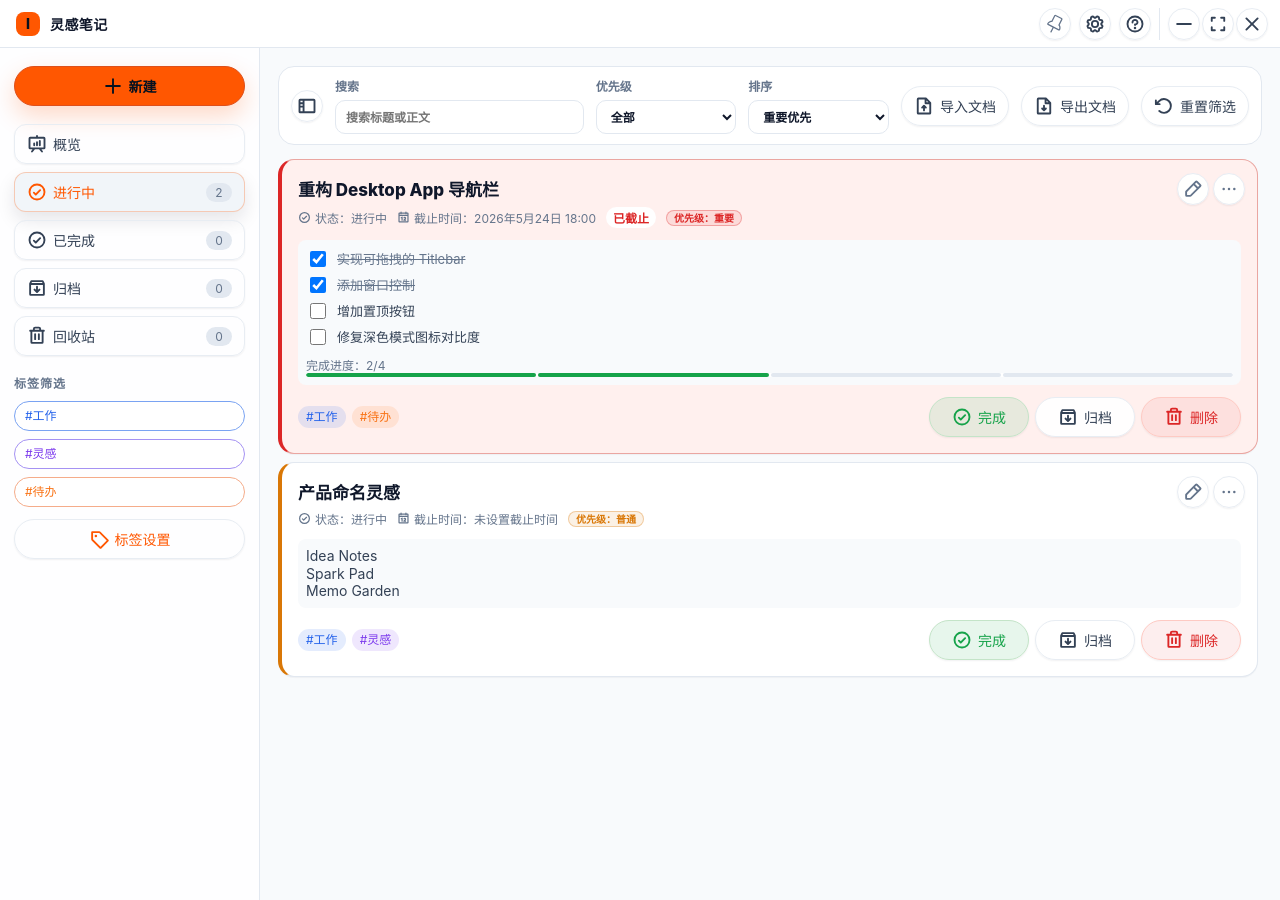
App editor create › Ctrl+N 打开新建编辑器，Ctrl+S 保存编辑器草稿
The image size is (1280, 900).
Expected: the button "重构 Desktop App 导航栏" is shown, [298,176,1181,201]
Type keys "{Control>}n{/Control}"
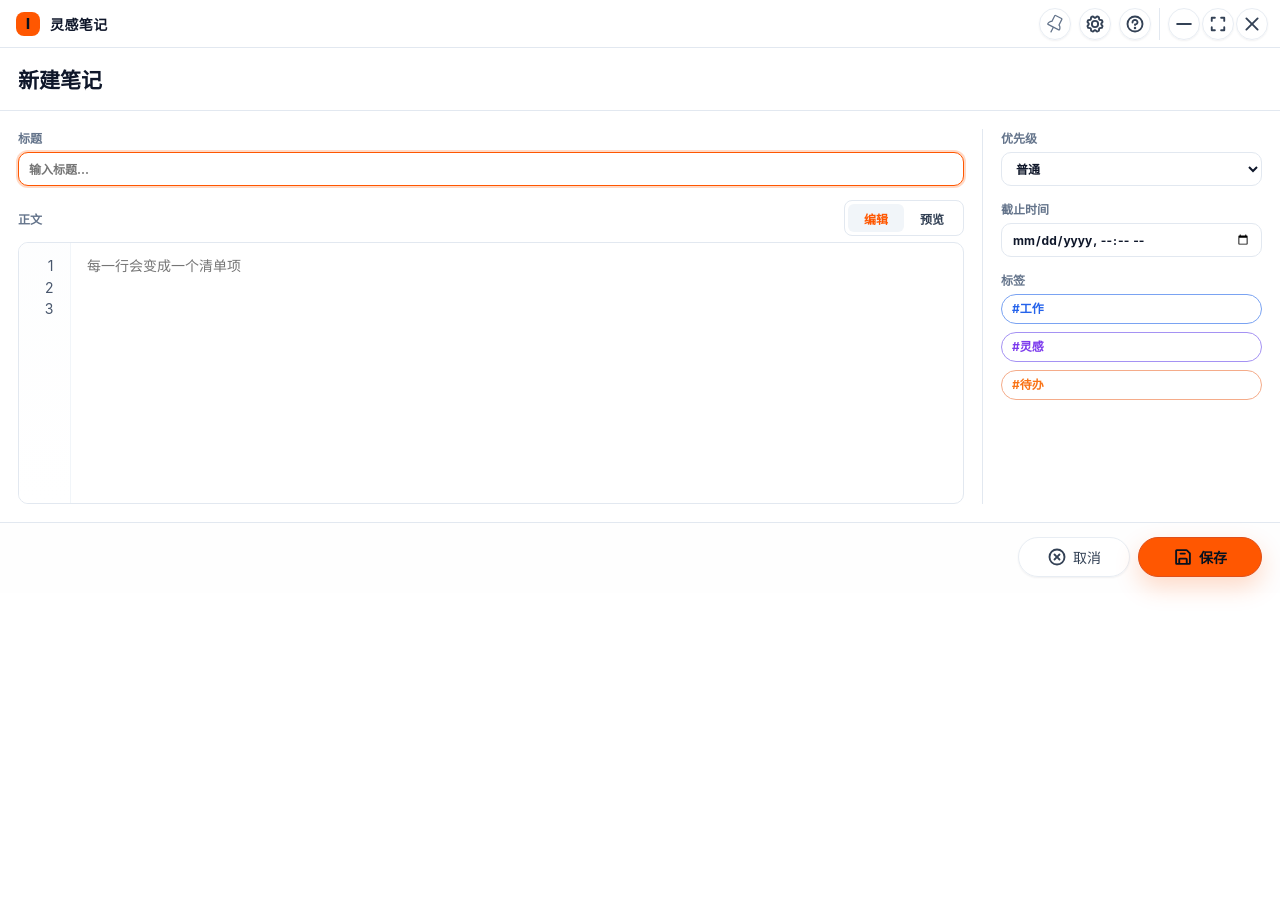
Now the dialog "新建笔记" is shown
Type "快捷键新建" into the field labelled "标题" at (491, 169), box [18,152,964,186]
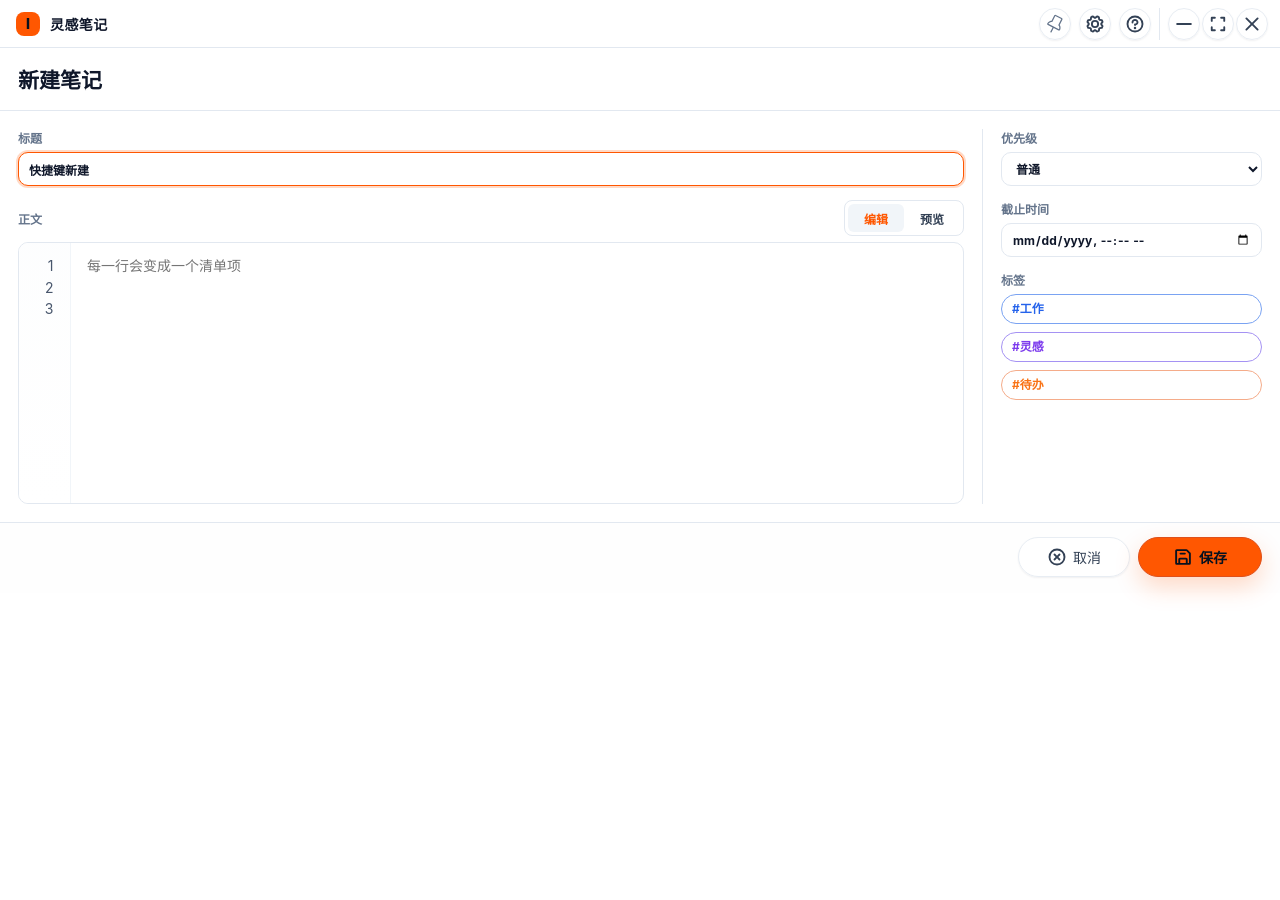
Type "键盘保存" into the text box named "正文" at (525, 373), box [87,243,963,503]
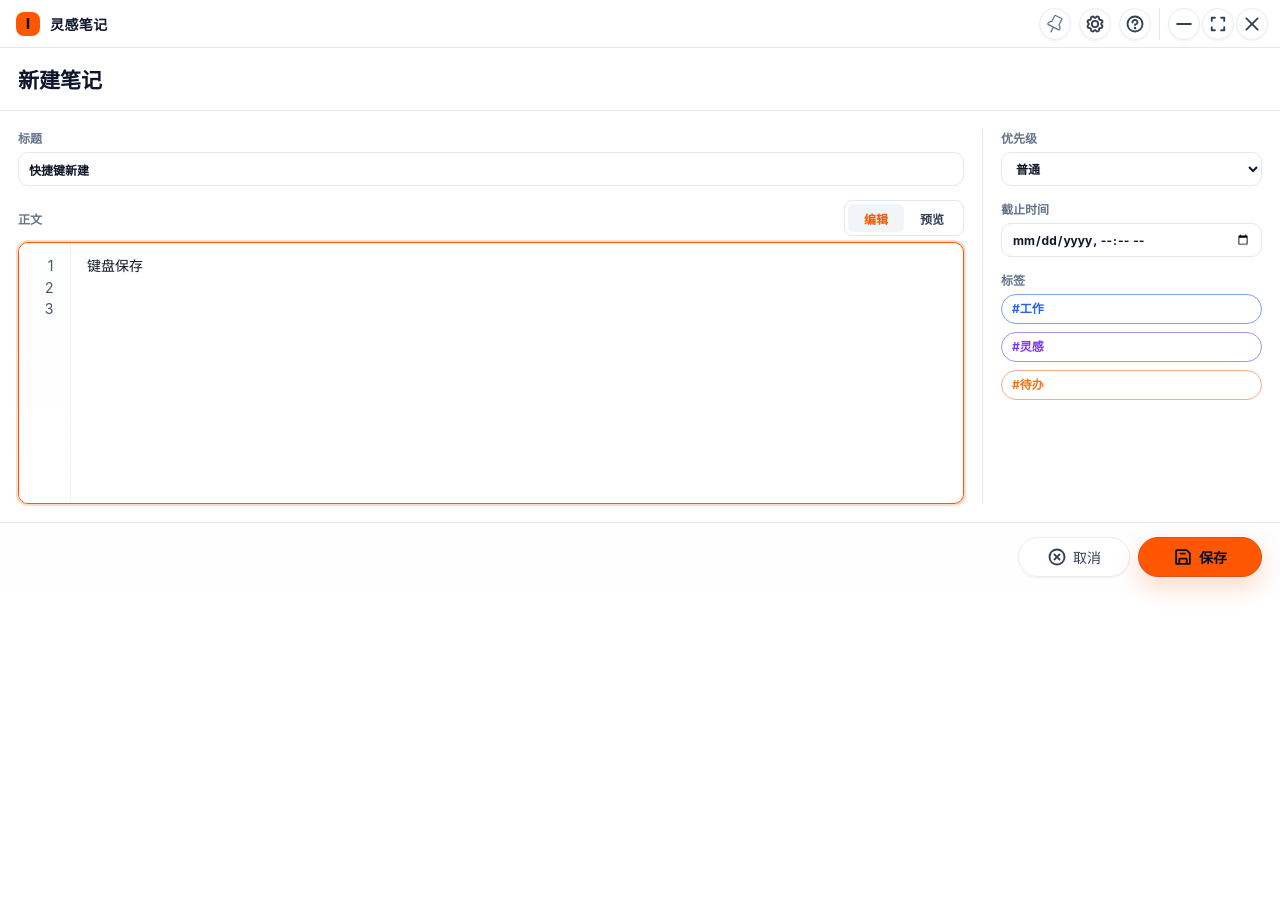
Type keys "{Control>}s{/Control}"
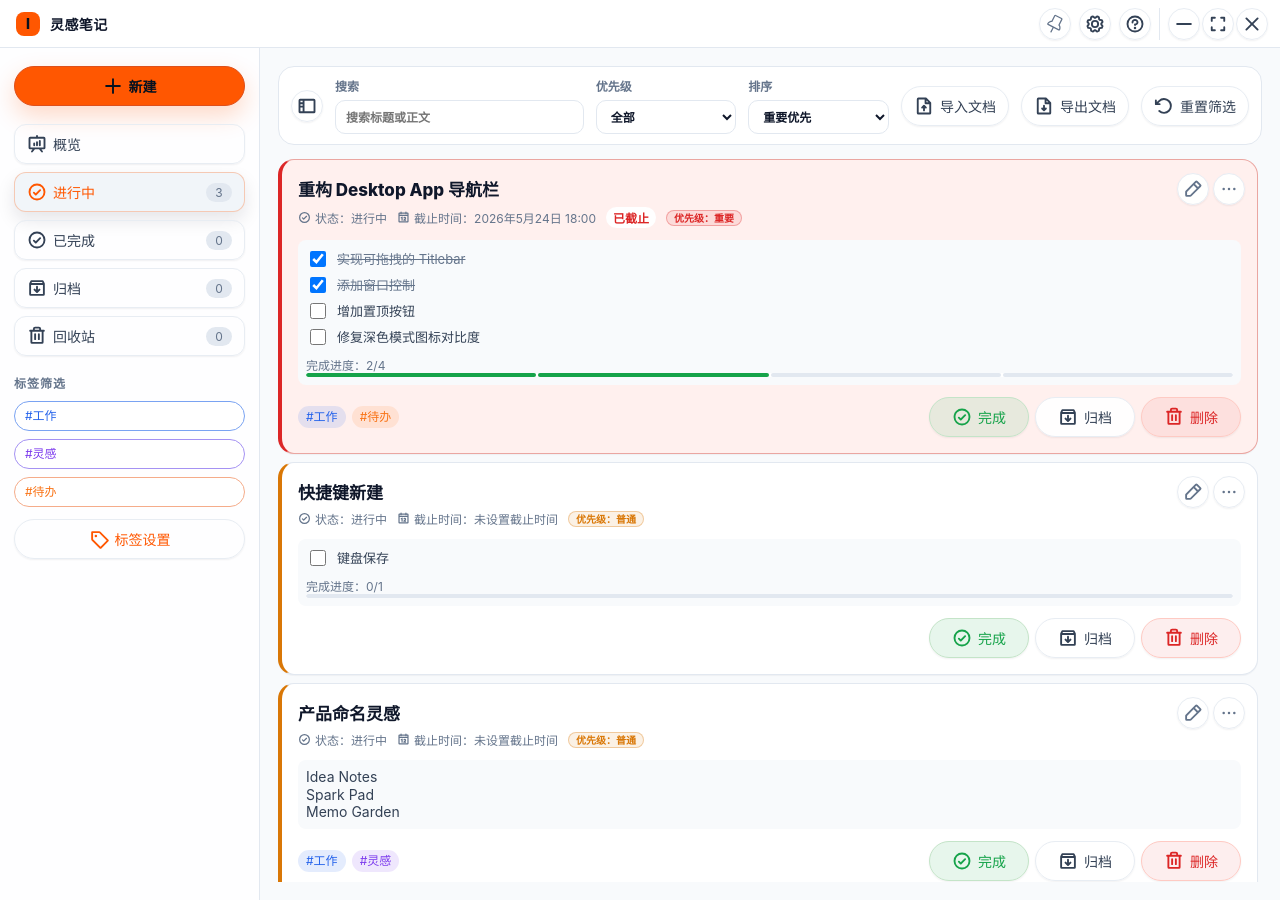
Now the button "快捷键新建" is shown, box [298,479,1181,504]
Now the heading "新建笔记" is gone
